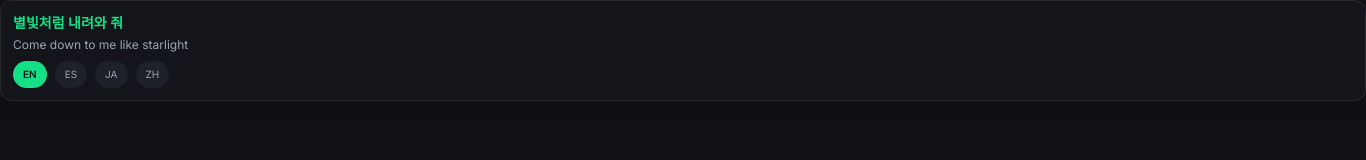
Test: LyricOverlay › tapping a chip swaps the translated line and aria-pressed
Click the button "ES" at (71, 74), box [55,61,87,88]
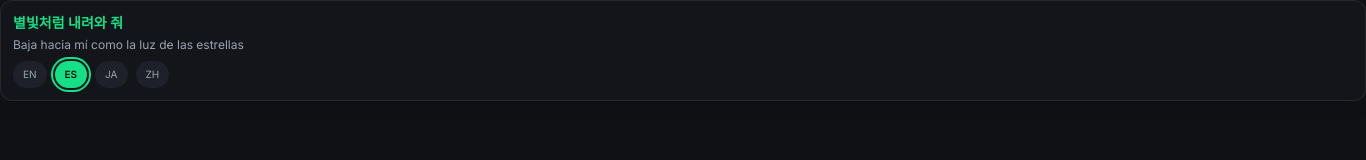
Expected: the text "Baja hacia mí como la luz de las estrellas" is shown, [13,37,244,52]
Expected: the text "Come down to me like starlight" is gone
